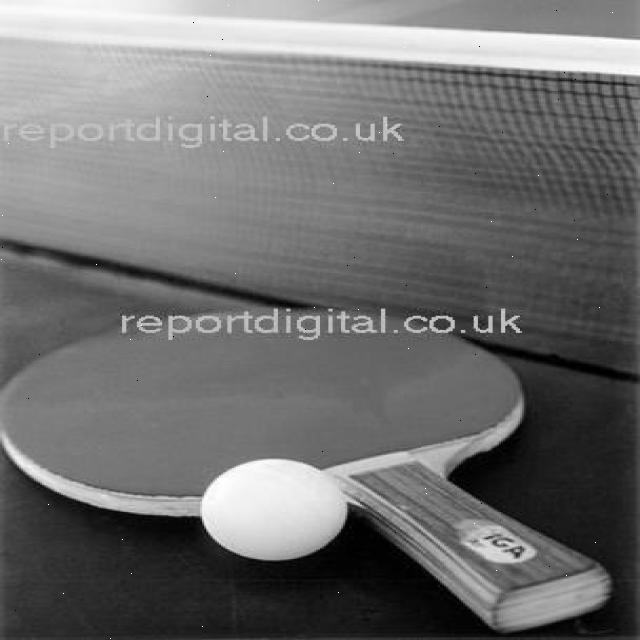ping-pong-ball: (201, 457, 346, 565)
